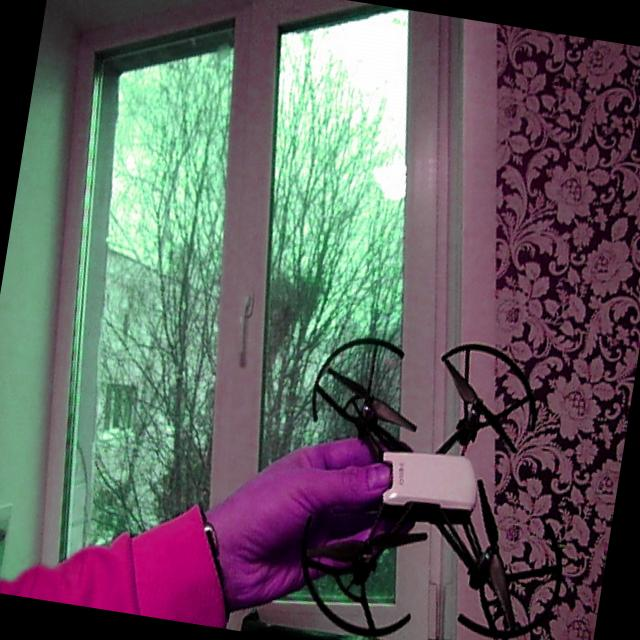drone: (271, 296, 602, 640)
